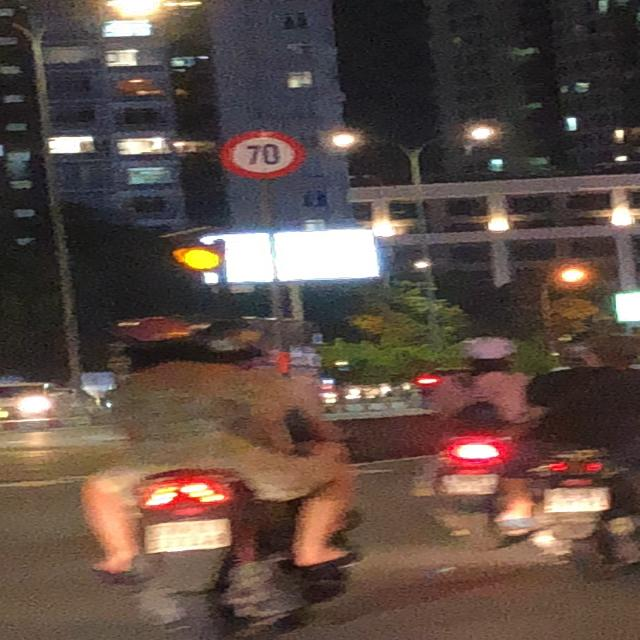Bien bao toc do toi da cho phep: (201, 124, 305, 182)
